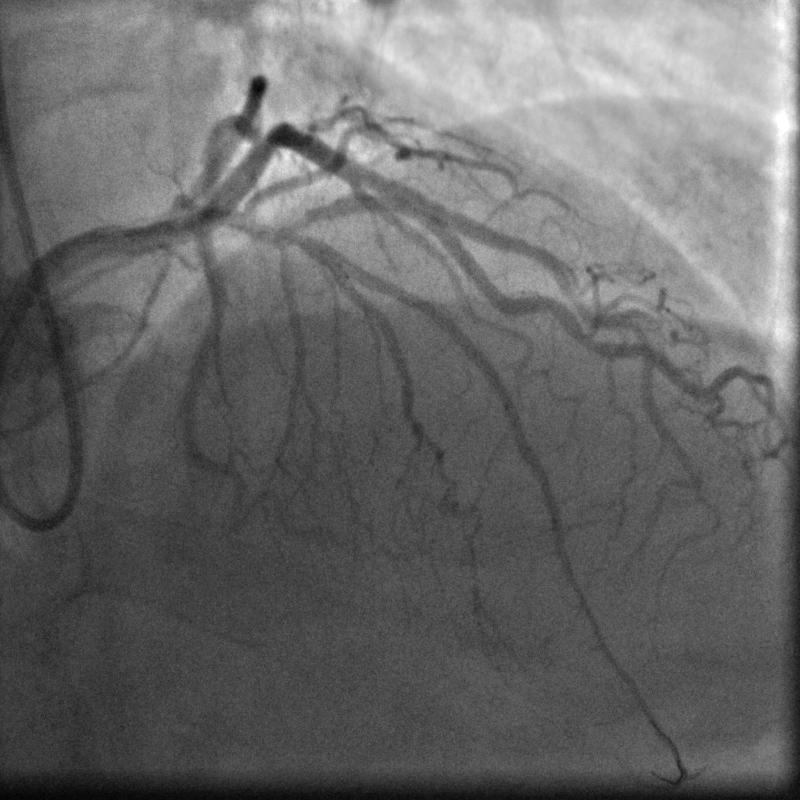Stenosis: (396, 187, 431, 232)
